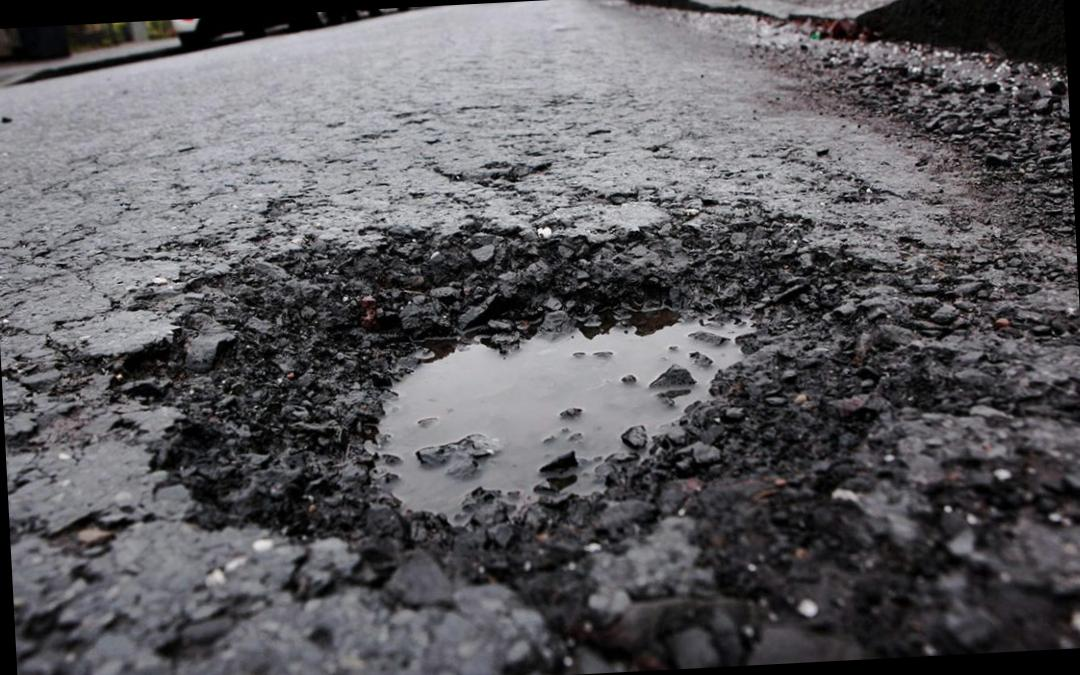pothole: (65, 164, 1026, 675)
